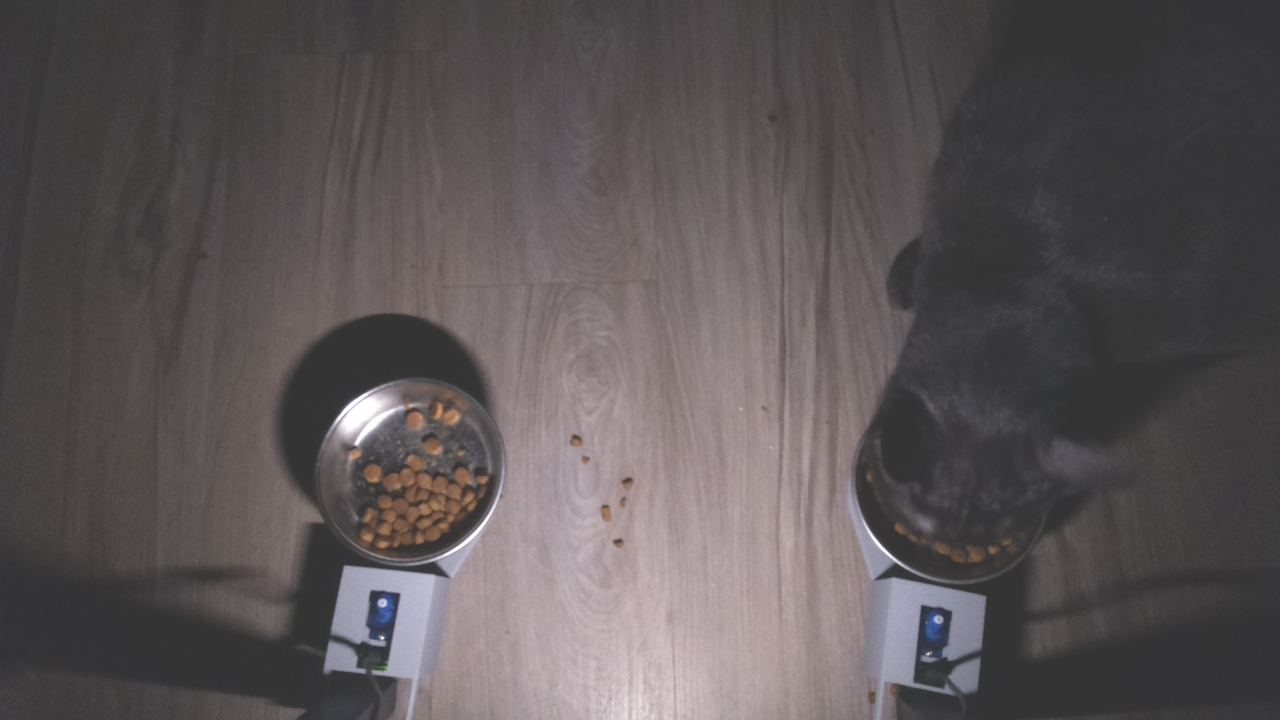open_bowl: (309, 372, 508, 568)
saki_eating: (847, 329, 1115, 591)
